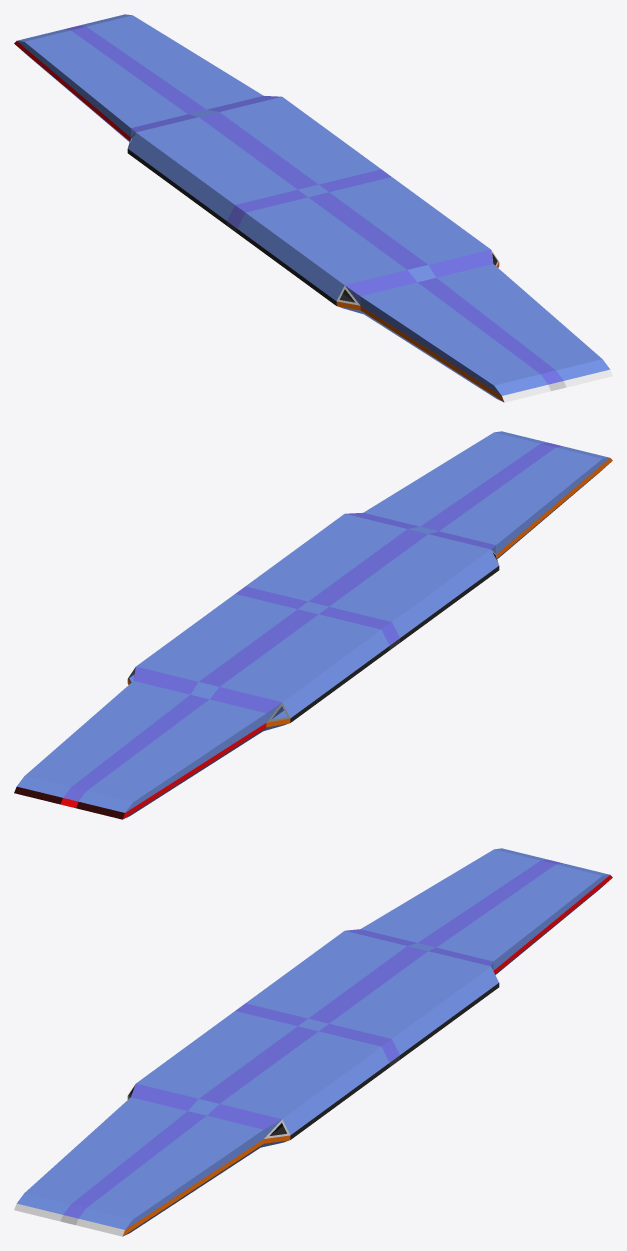
The model's file is Ramp.fbx.
3 renders of one model, top to bottom at view 1: azimuth 30°, elevation 25°; view 2: azimuth 150°, elevation 25°; view 3: azimuth 330°, elevation 25°, orthographic.
Visible parts, largest first — view 1: CarBody; view 2: CarBody; view 3: CarBody.
Part boxes in pixels (x1=…): CarBody: x1=14, y1=14, x2=612, y2=402; CarBody: x1=14, y1=431, x2=612, y2=819; CarBody: x1=14, y1=848, x2=612, y2=1236.
Bounding box in the file's own units: 1.8 × 0.25 × 9.4.
